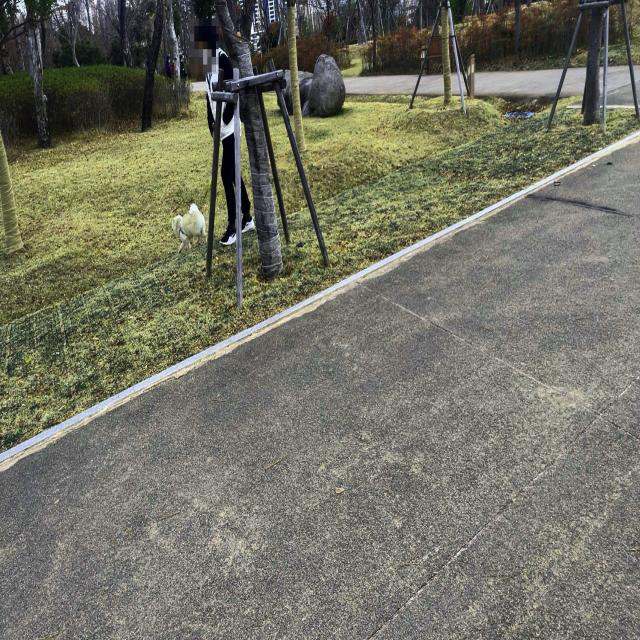Leashed_Dog: (172, 122, 236, 254)
